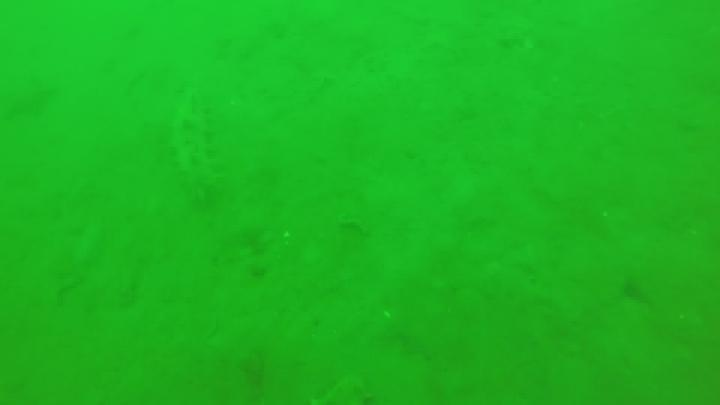holothurian: (163, 89, 225, 205)
